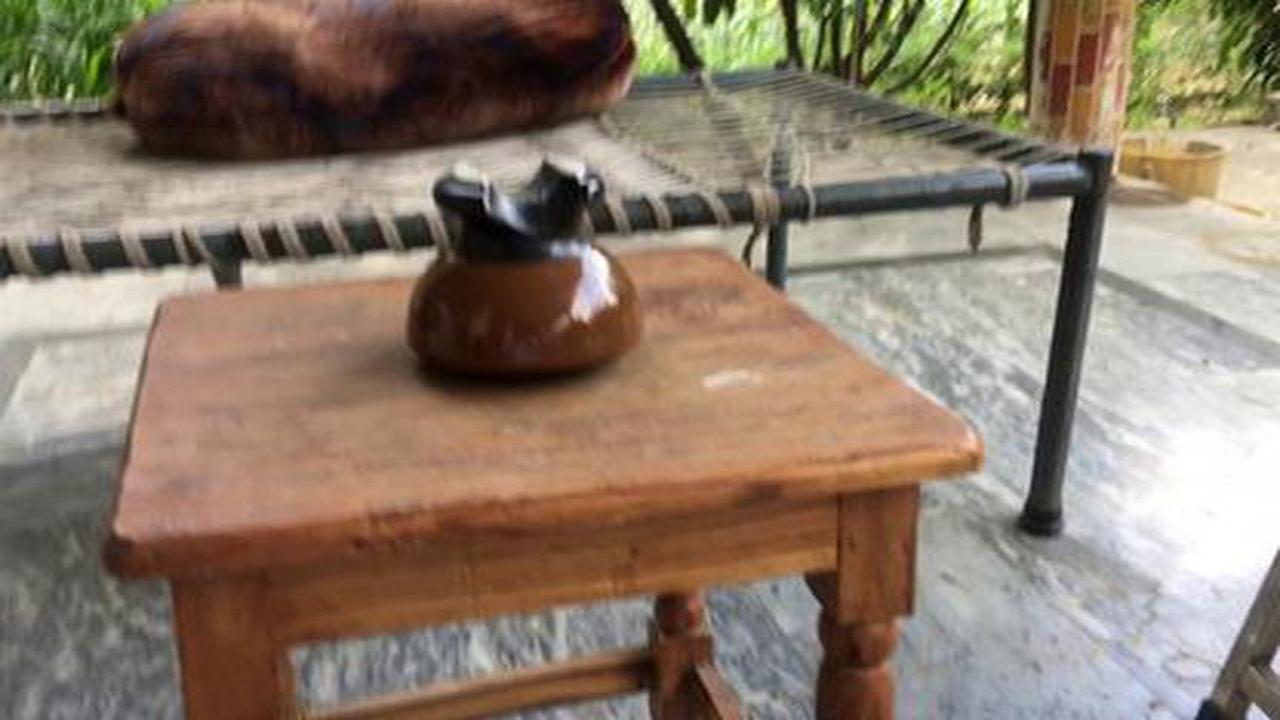insulator_pin: (388, 139, 687, 404)
